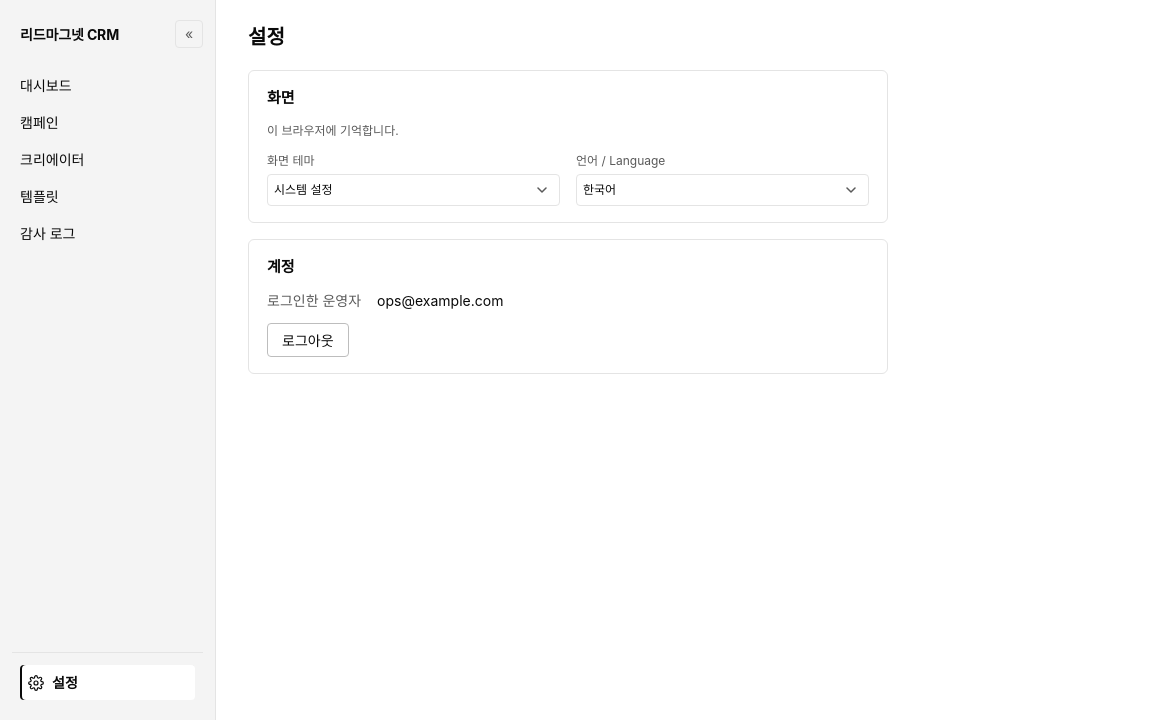
Test: 언어 선택 › 기본은 한국어이고, English를 고르면 메뉴와 테마 문구가 바뀐다
Expected: the link "캠페인" is shown, top-left (20, 114), bottom-right (59, 131)
Select "English" in the dropdown labelled "언어 / Language" at (722, 190), box top-left (576, 174), bottom-right (869, 206)
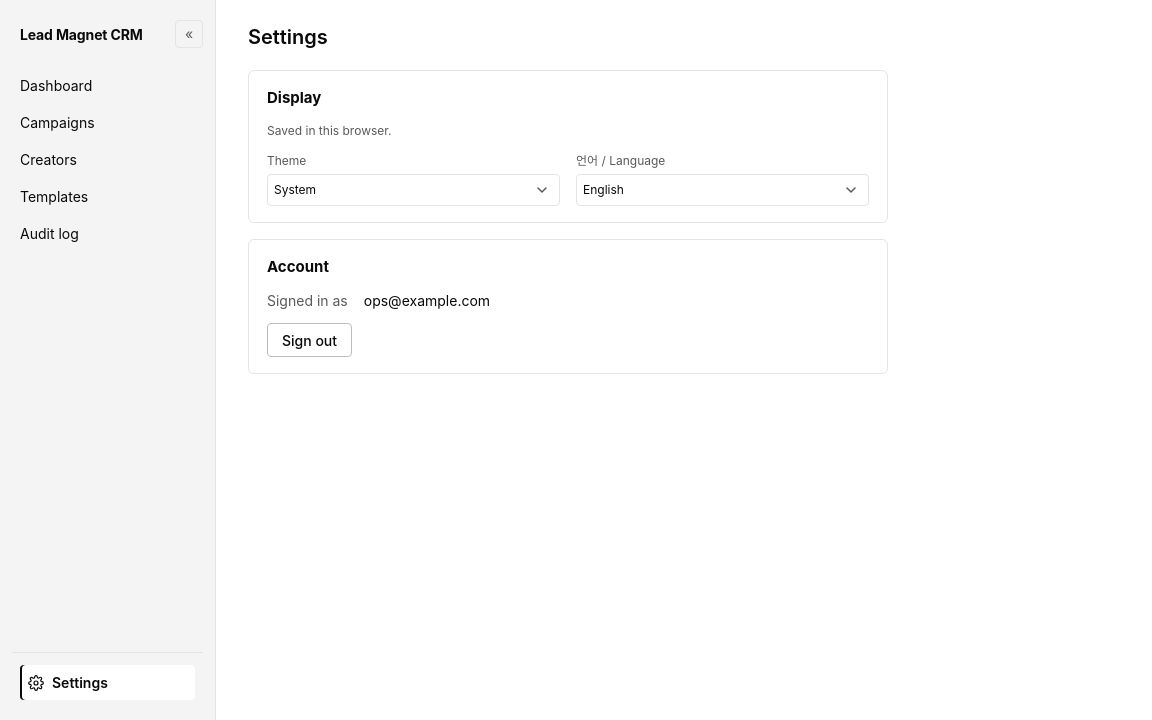
Expected: the link "Campaigns" is shown, top-left (20, 114), bottom-right (95, 131)
Expected: the link "Audit log" is shown, top-left (20, 225), bottom-right (79, 242)
Expected: the button "Sign out" is shown, top-left (267, 323), bottom-right (352, 357)
